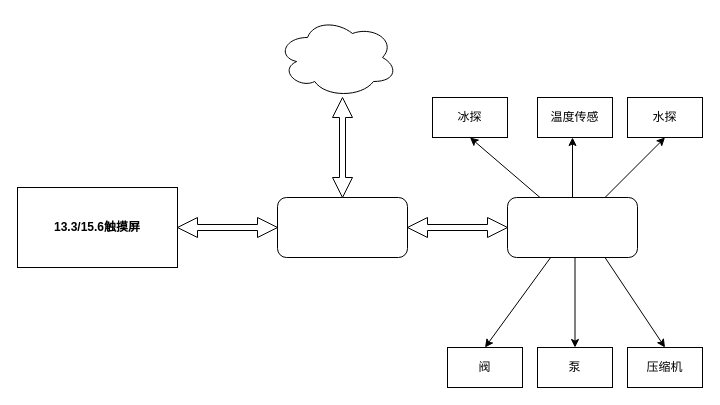
Some shapes in this 720 by 405 pixel diagram are drawn without their labels. Here are the shapes that lost their labels. From the top down, the centre of each, then its label:
the point at 337,57: 机智云
the point at 342,227: RK3568安卓控制板
the point at 572,227: SDC10D控制板
